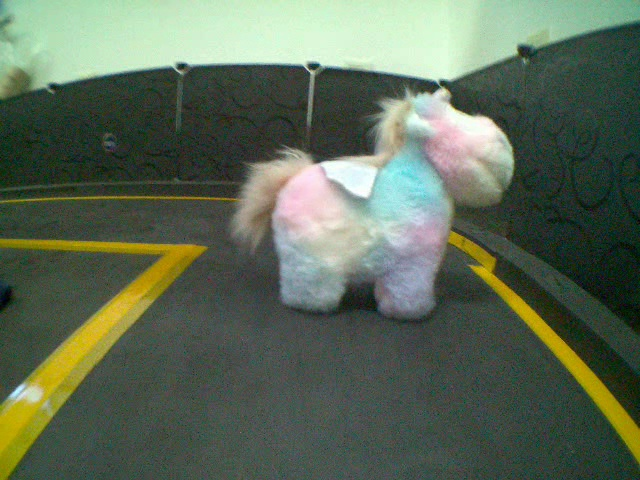unicorn: (225, 86, 517, 326)
